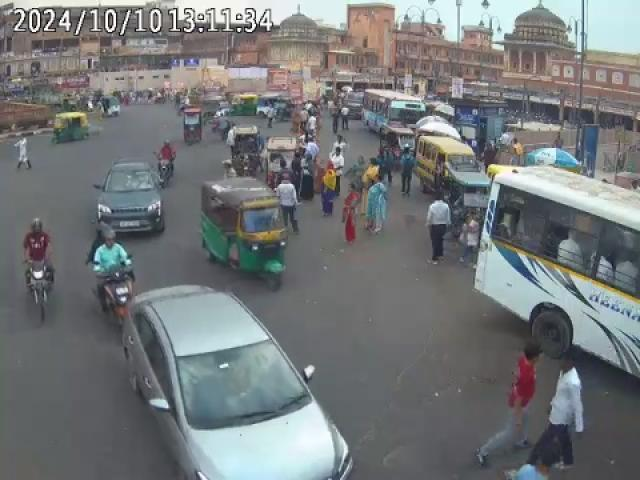auto: (200, 175, 292, 286), (414, 134, 490, 200), (226, 126, 262, 178), (50, 112, 90, 147), (180, 108, 204, 145)
bus: (474, 163, 640, 376), (360, 88, 426, 136)
car: (124, 284, 359, 480), (94, 162, 166, 239)
helmet: (99, 230, 117, 248), (29, 218, 44, 230)
motorbike-rider: (20, 218, 54, 324), (154, 140, 177, 186)
person: (425, 195, 454, 264), (365, 176, 390, 236), (276, 176, 301, 234), (321, 166, 341, 216), (12, 132, 30, 169)
scooty-rider: (89, 228, 140, 326)
